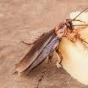cockroach: (16, 18, 75, 75)
